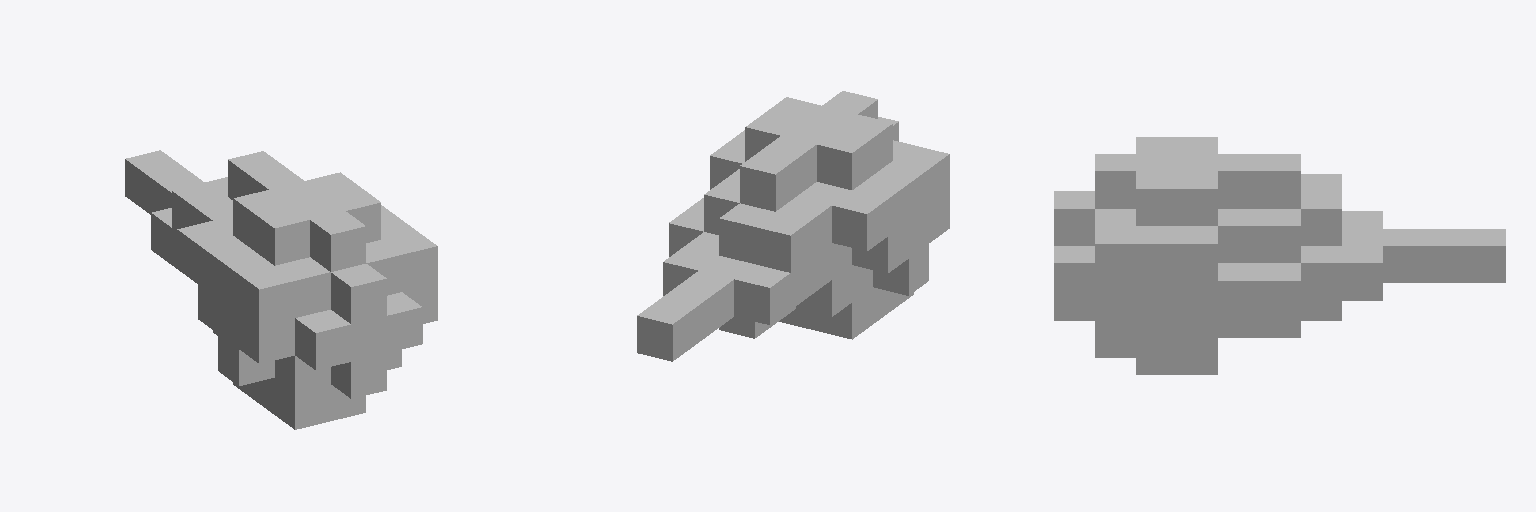
Rendered from fireball.obj.
3 views of the same model, side by side, from view 1: azimuth 30°, elevation 25°; view 2: azimuth 150°, elevation 25°; view 3: azimuth 270°, elevation 25° (orthographic).
Size of the model in its own units: 5 by 5 by 11.